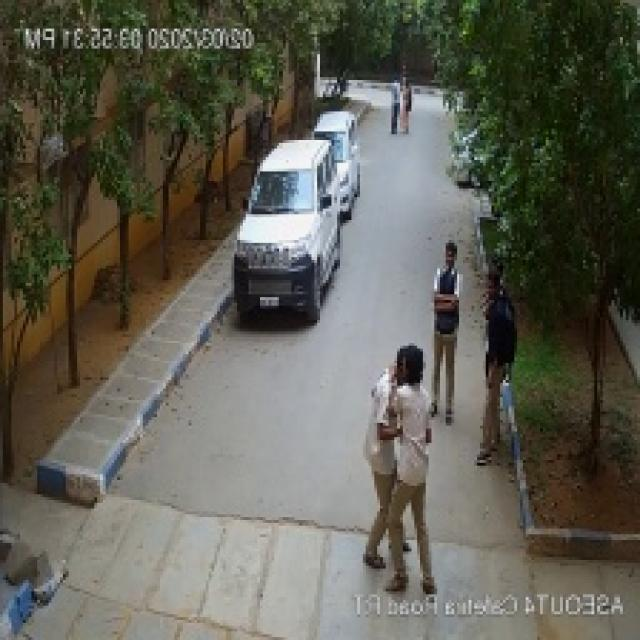fight: (337, 337, 454, 615)
